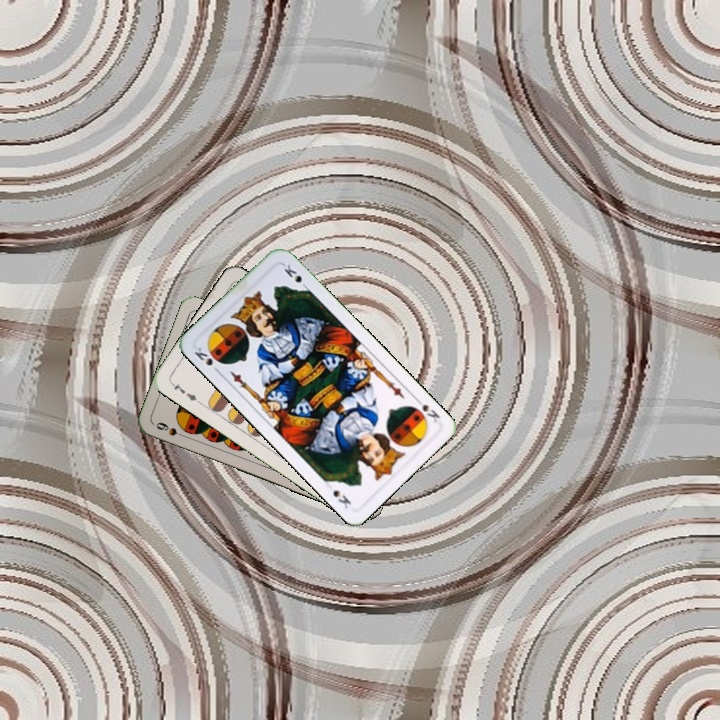E7: (167, 378, 202, 406)
S9: (152, 418, 190, 440)
SK: (190, 342, 224, 376), (408, 393, 443, 426)
